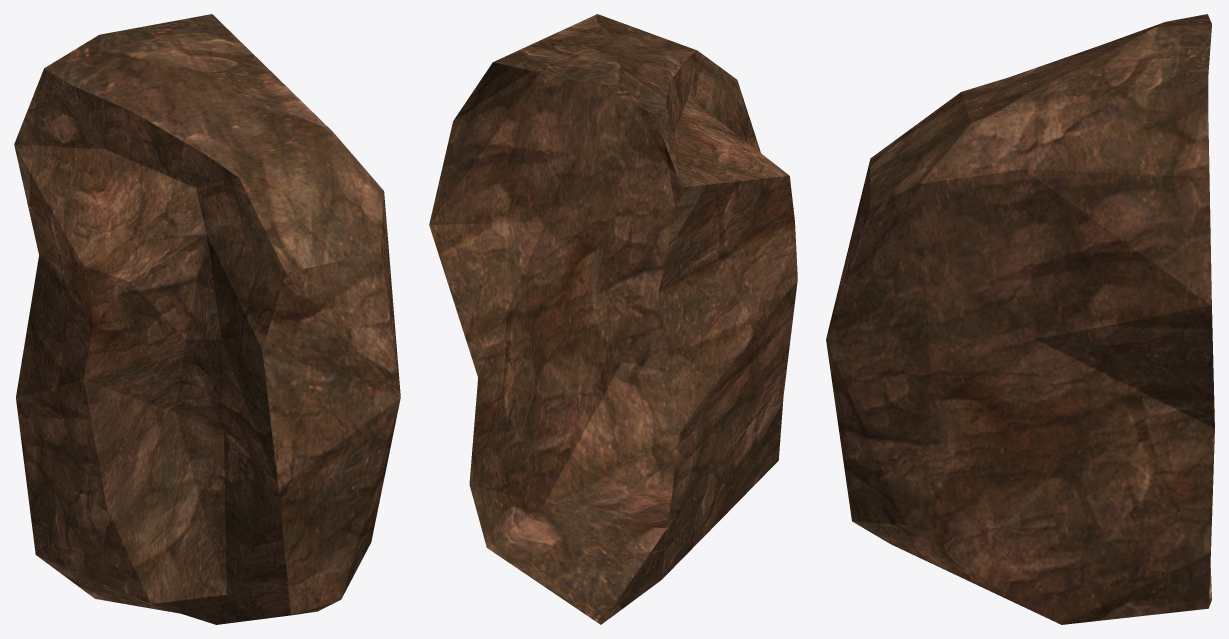
The model's file is huodong_fuben_365shibi05.obj.
3 views of the same model, side by side, from view 1: azimuth 30°, elevation 25°; view 2: azimuth 150°, elevation 25°; view 3: azimuth 270°, elevation 25° (orthographic). The views are drawn at different scales.
Visible parts, largest first — view 1: huodong_fuben_365shibi05; view 2: huodong_fuben_365shibi05; view 3: huodong_fuben_365shibi05.
Part boxes in pixels (box(x1,y1,x2,y2)): huodong_fuben_365shibi05: box(14, 14, 400, 624); huodong_fuben_365shibi05: box(429, 14, 797, 624); huodong_fuben_365shibi05: box(826, 14, 1214, 624).
Size of the model in its own units: 211 by 393 by 240.
Materials: 1 (1 with a texture image).
